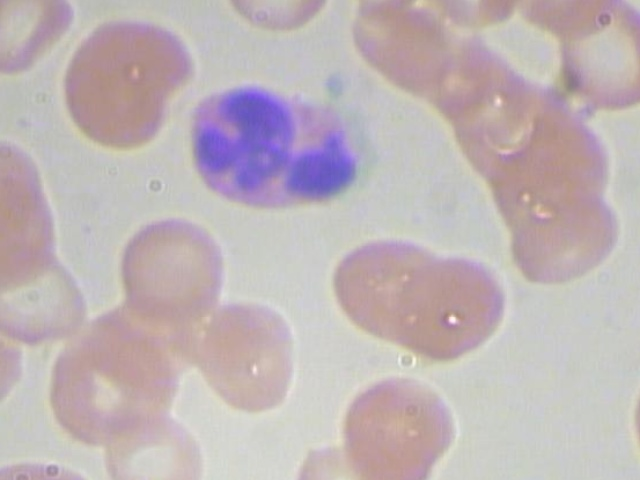RBC: (55, 13, 203, 161), (191, 290, 319, 416), (334, 369, 462, 480), (505, 181, 620, 292), (113, 211, 227, 322), (393, 251, 507, 362), (328, 234, 443, 344), (0, 251, 95, 349), (97, 404, 219, 480), (0, 0, 76, 78), (0, 137, 49, 242), (286, 435, 389, 480), (0, 447, 109, 480), (0, 311, 27, 422)
WBC: (172, 78, 367, 227)
